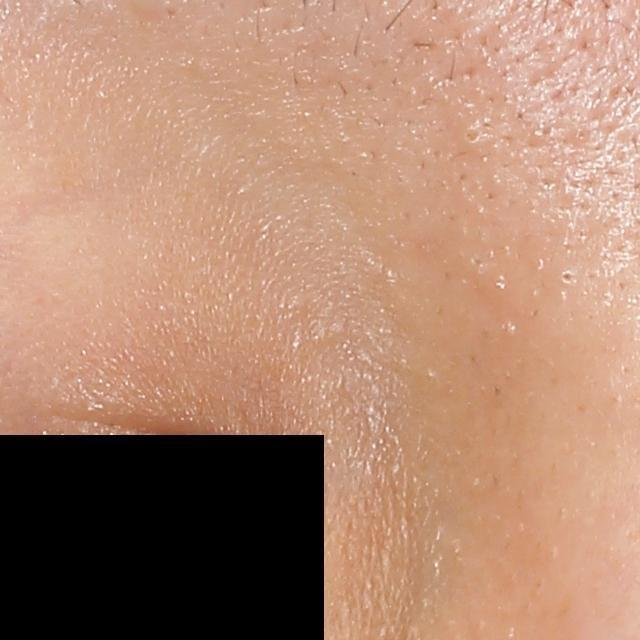comedo: (456, 123, 489, 155), (557, 268, 576, 288)
